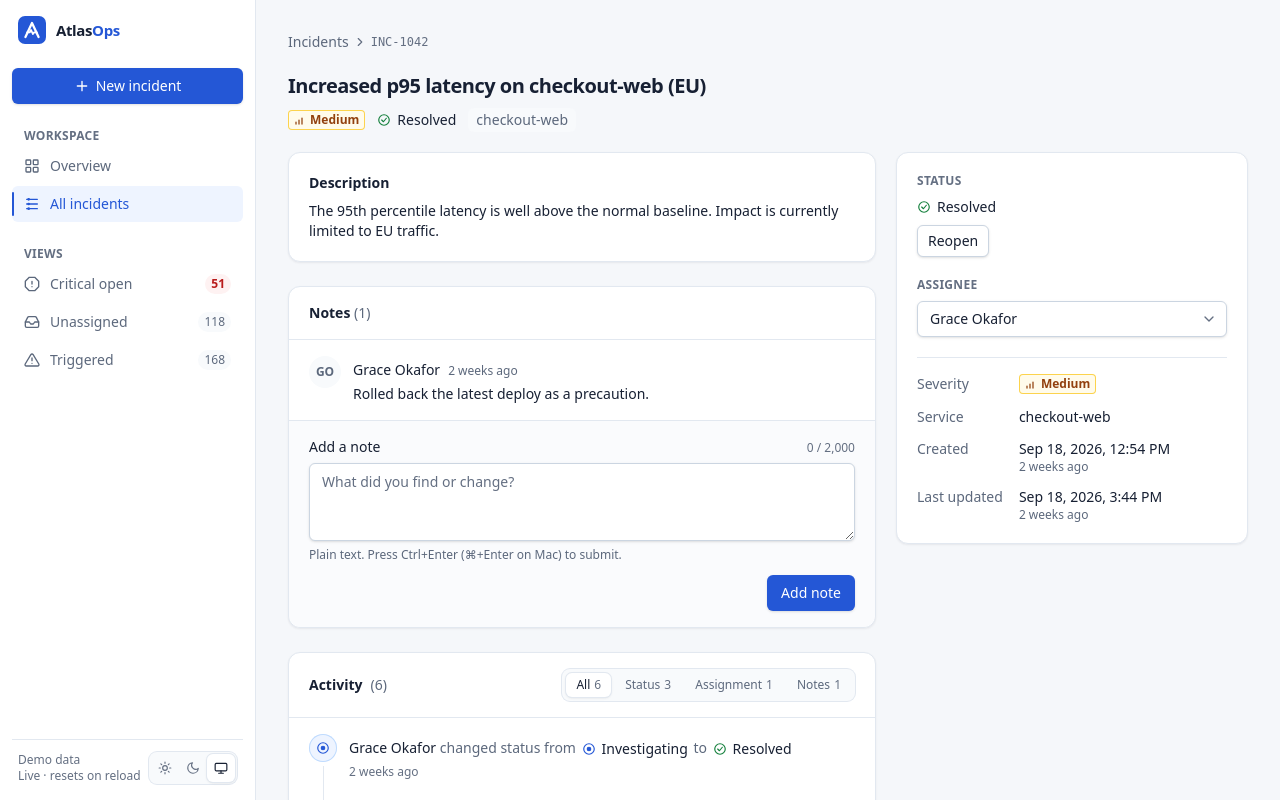
it: Incident detail page › adds a note at the end of the timeline and clears the composer
Type "Restarted the worker pool." into the text box labelled "Add a note". click: (582, 502)
box: [309,463,855,541]
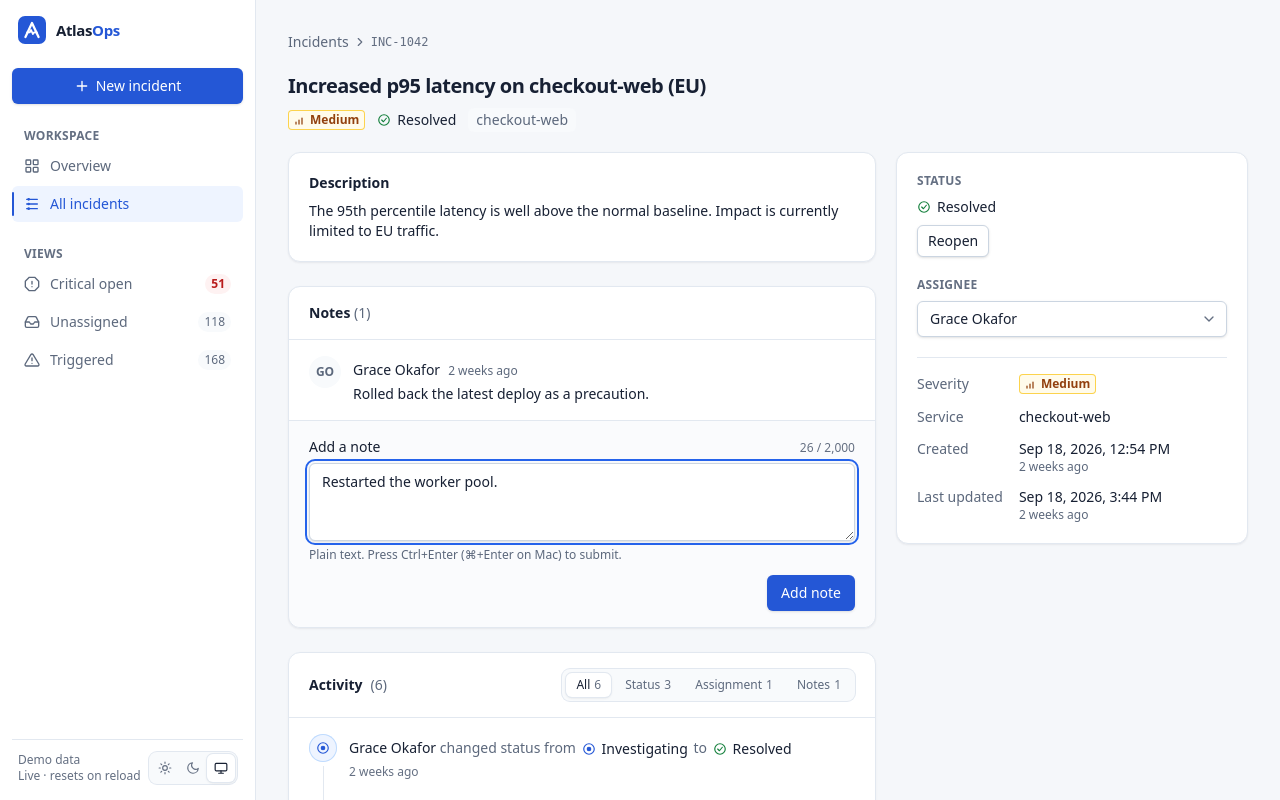
Click the button "Add note". click: (811, 593)
box: [767,575,855,611]
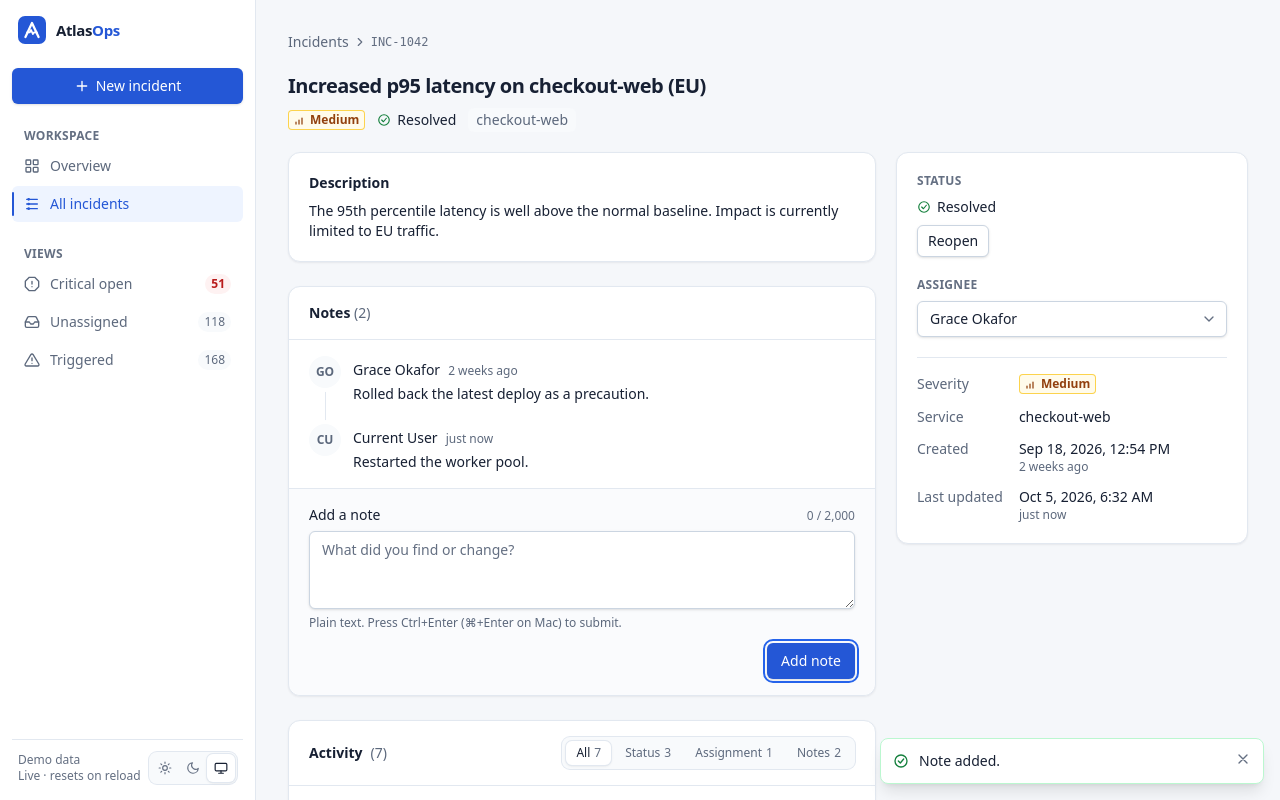
Result: the list item "CU Current User just now Restarted the worker pool." is shown at [309,424,528,471]
Result: the text box labelled "Add a note" is empty at [309,531,855,609]
